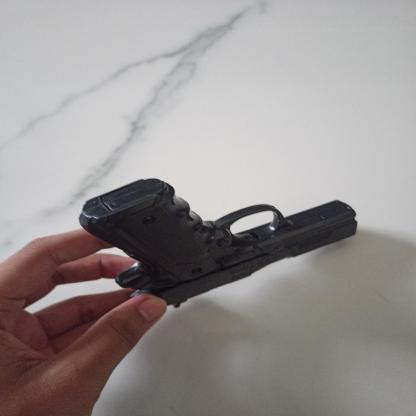handgun: (77, 175, 358, 306)
